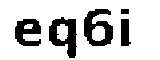6: (83, 5, 115, 50)
e: (12, 14, 43, 50)
i: (117, 3, 139, 51)
q: (48, 16, 81, 60)
